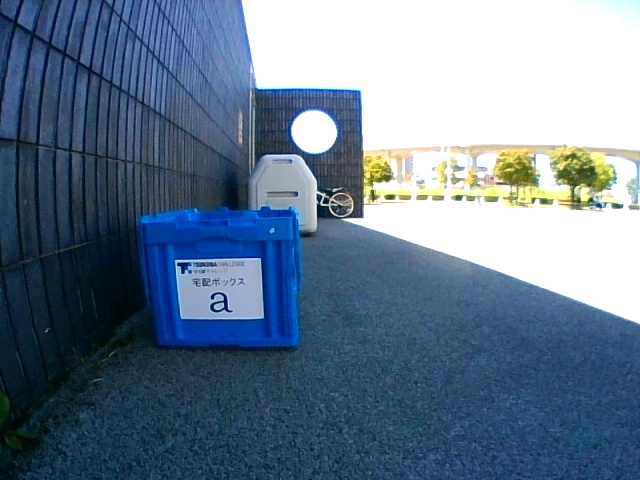blue_box: (139, 207, 301, 347)
tag_a: (180, 261, 262, 319)
